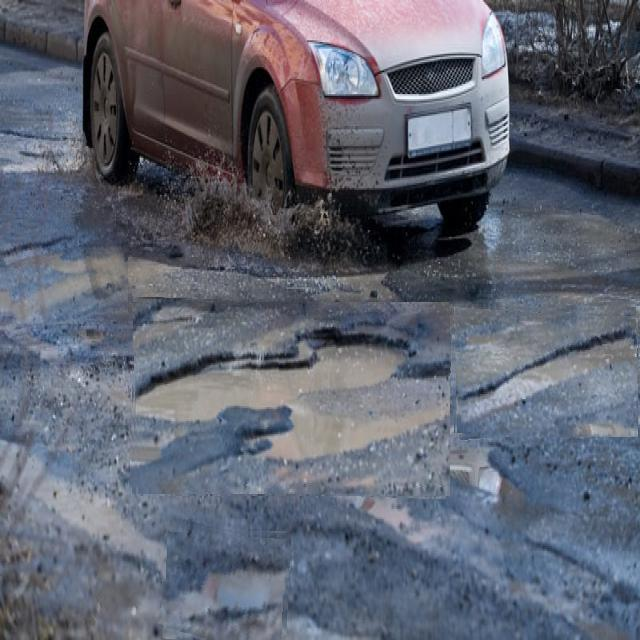Pothole: (130, 300, 450, 496), (452, 304, 638, 437), (162, 525, 291, 640), (0, 212, 128, 324)
